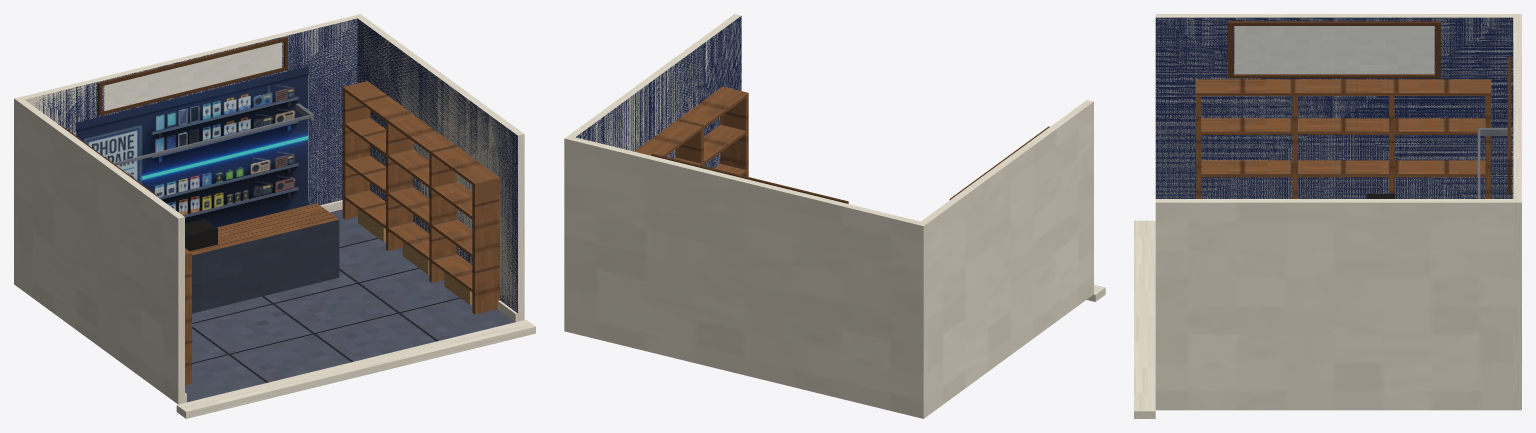
Rendered from shop-electronics.glb.
3 renders of one model, left to right at view 1: azimuth 30°, elevation 25°; view 2: azimuth 150°, elevation 25°; view 3: azimuth 270°, elevation 25°, orthographic. The views are drawn at different scales.
Visible parts, largest first — view 1: shop-electronics, shop_sign; view 2: shop-electronics; view 3: shop-electronics, photos_area.
Part boxes in pixels (box(x1,y1,x2,y2)): shop-electronics: box(14, 14, 535, 418); shop_sign: box(104, 42, 281, 110); shop-electronics: box(564, 14, 1105, 418); shop-electronics: box(1134, 14, 1521, 418); photos_area: box(1234, 26, 1434, 74).
Size of the model in its own units: 6.3 by 3.32 by 5.42.
1 material, 1 textured.
